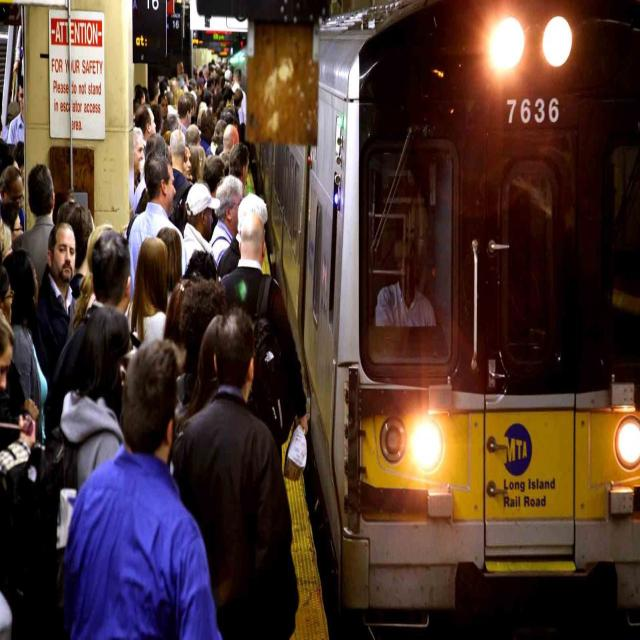body: (54, 337, 228, 639), (172, 306, 300, 640), (47, 302, 132, 640), (218, 210, 310, 475), (43, 228, 141, 444), (0, 21, 24, 638), (152, 241, 228, 433), (1, 247, 49, 470), (29, 217, 81, 395), (128, 147, 188, 299), (132, 58, 248, 131), (11, 162, 56, 292), (374, 240, 438, 327), (55, 193, 97, 292), (180, 180, 222, 273), (207, 171, 245, 268), (183, 130, 249, 183), (134, 130, 172, 214), (168, 127, 192, 238)
